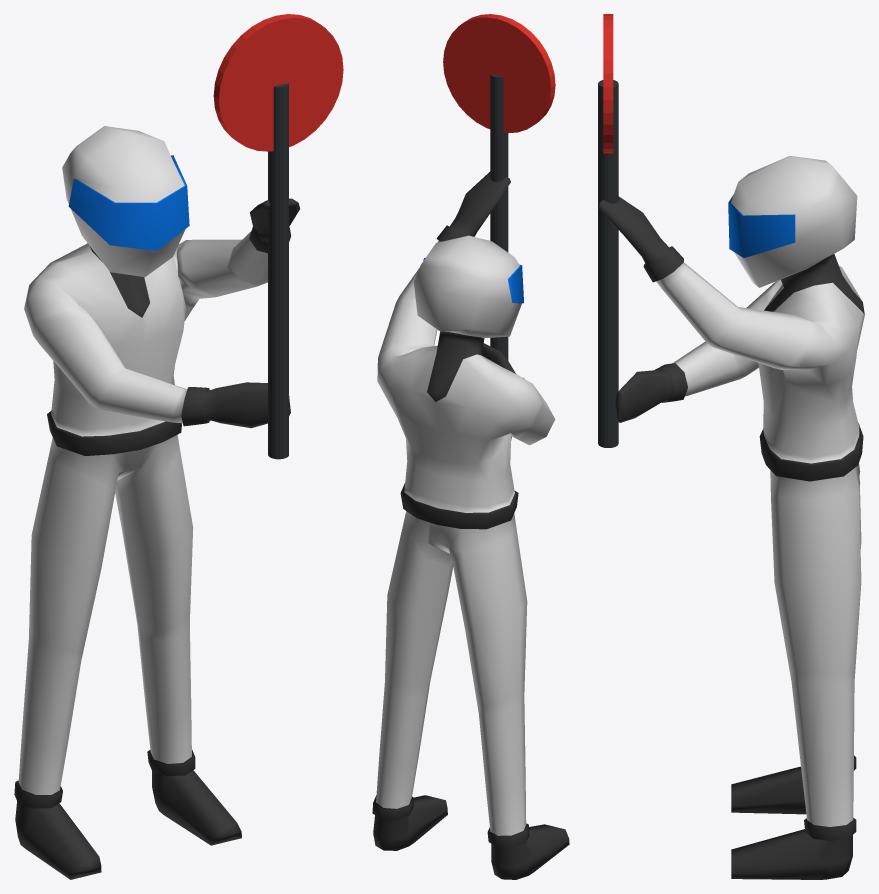
Rendered from pit_signaler.glb.
3 views of the same model, side by side, from view 1: azimuth 30°, elevation 25°; view 2: azimuth 150°, elevation 25°; view 3: azimuth 270°, elevation 25° (orthographic). The views are drawn at different scales.
Parts seen in each view (by area): view 1: PitCrewBody, PitSignalFace, SignalHandle; view 2: PitCrewBody, PitSignalFace, SignalHandle; view 3: PitCrewBody, SignalHandle, PitSignalFace.
Boxes of the visible parts, x1,y1,x2,y2 form: PitCrewBody: (14, 126, 299, 879); PitSignalFace: (213, 14, 343, 151); SignalHandle: (268, 83, 288, 459); PitCrewBody: (372, 171, 569, 879); PitSignalFace: (443, 14, 555, 133); SignalHandle: (490, 73, 508, 360); PitCrewBody: (598, 156, 864, 879); SignalHandle: (598, 80, 618, 447); PitSignalFace: (603, 14, 613, 153).
Size of the model in its own units: 0.5697 by 2.28 by 0.651.
